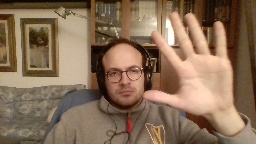Mano_aperta: (139, 11, 234, 118)
